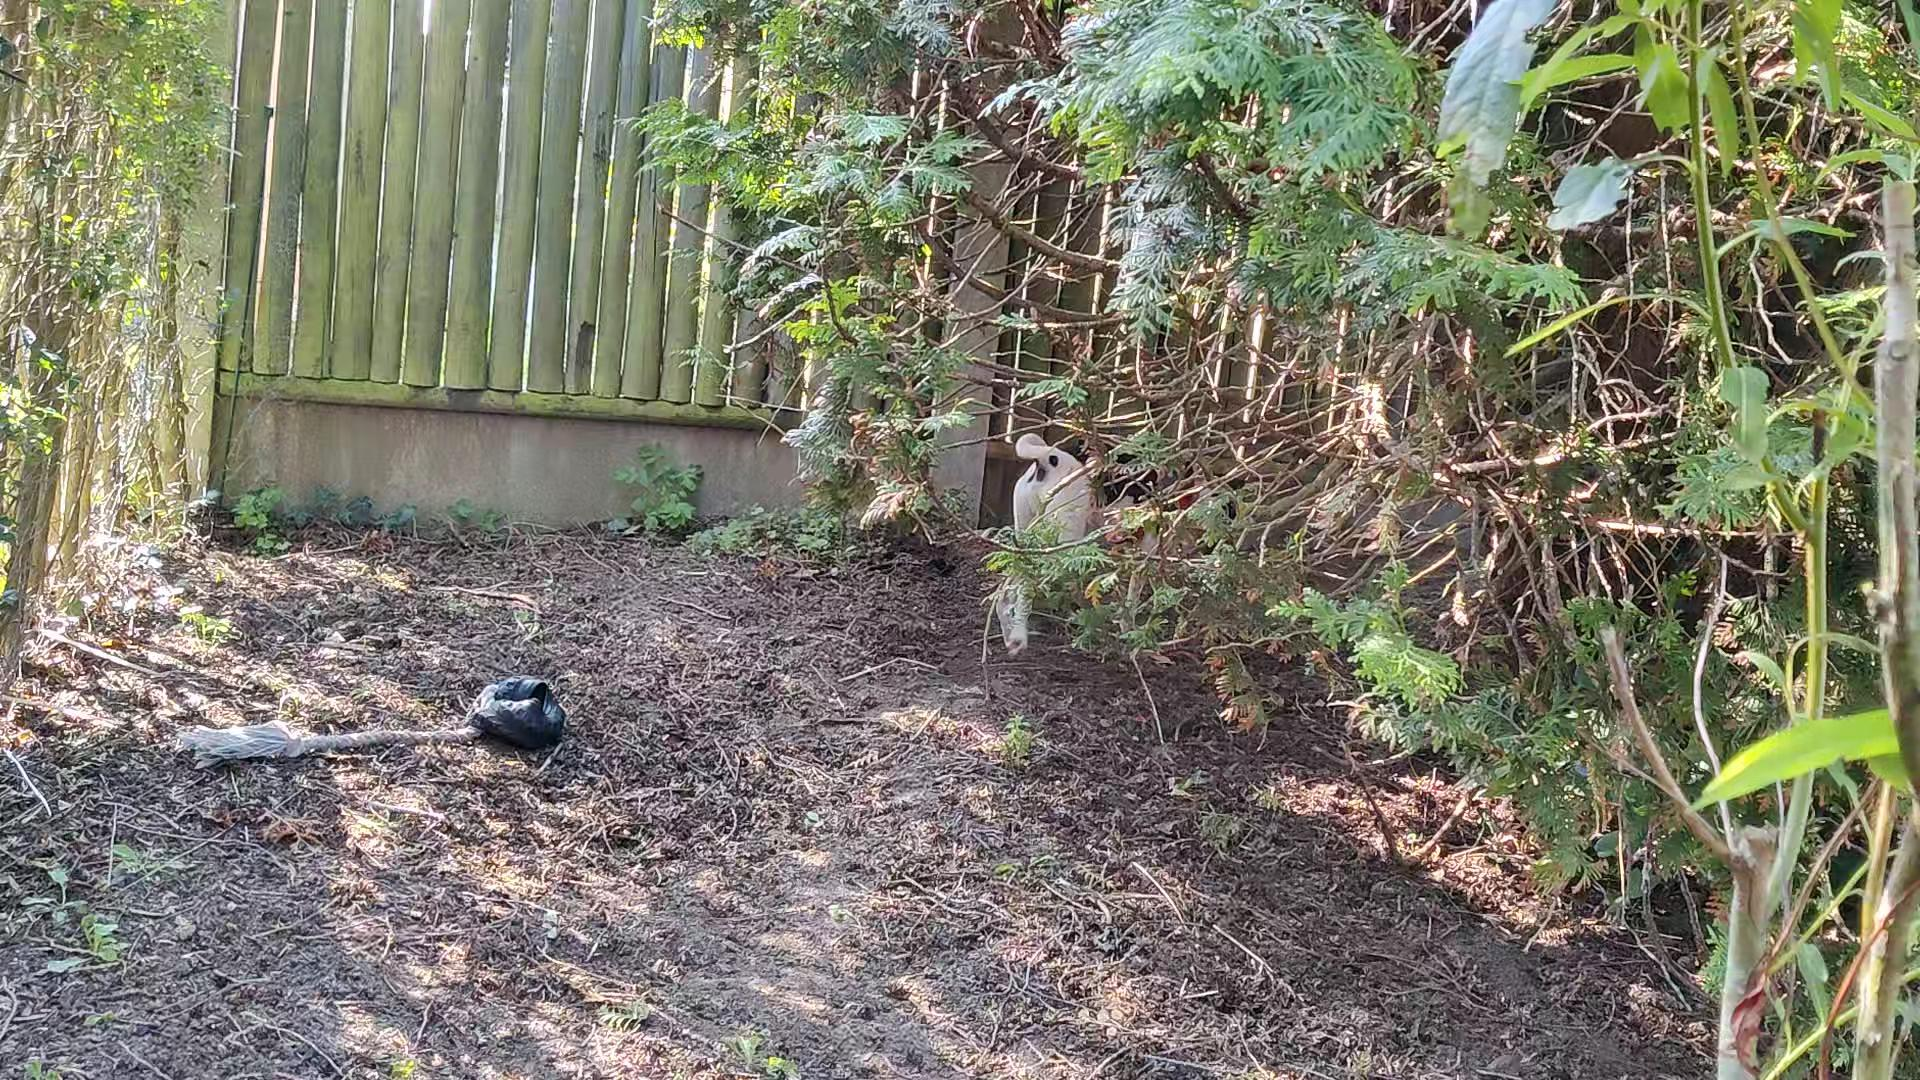Dog: (977, 425, 1257, 665)
